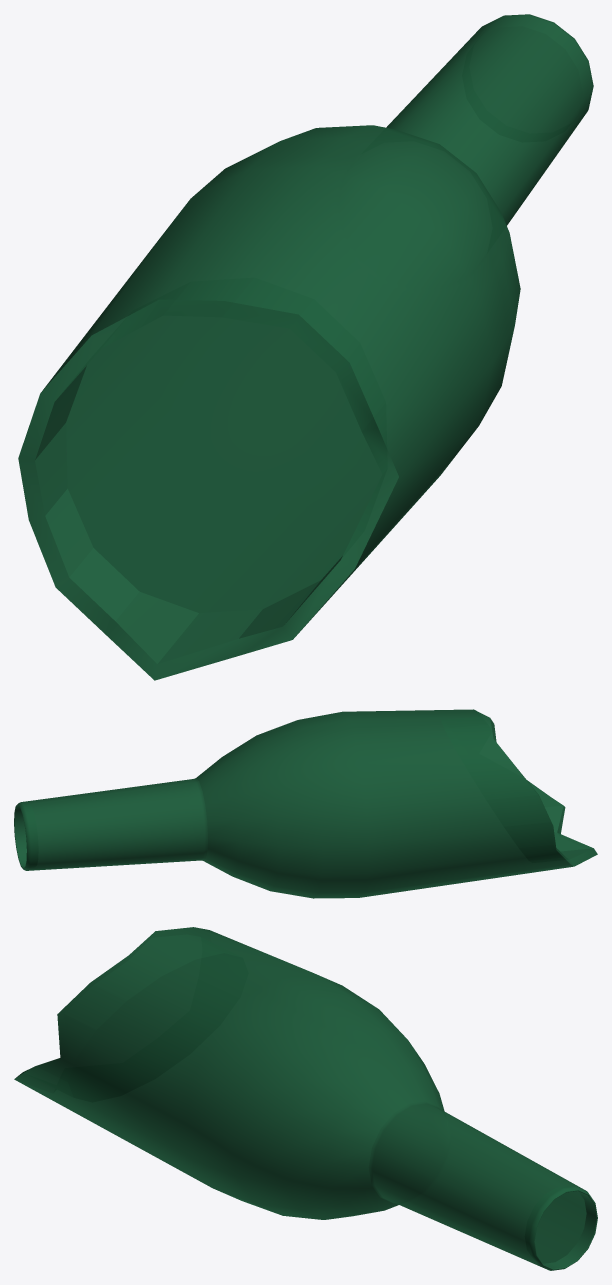
The model's file is BrokenBottle.fbx.
3 views of the same model, one above another, from view 1: azimuth 30°, elevation 25°; view 2: azimuth 150°, elevation 25°; view 3: azimuth 270°, elevation 25° (orthographic). The views are drawn at different scales.
Parts seen in each view (by area): view 1: BrokenBottle; view 2: BrokenBottle; view 3: BrokenBottle.
Part boxes in pixels (x1,y1,x2,y2): BrokenBottle: (18, 14, 593, 680); BrokenBottle: (14, 709, 597, 898); BrokenBottle: (14, 927, 597, 1270).
Bounding box in the file's own units: 0.9835 × 0.3859 × 0.9293.
Materials: 1 (1 with a texture image).
